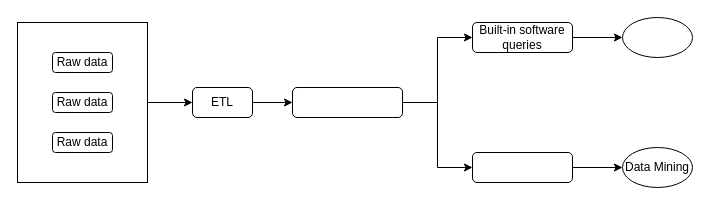
This 710x205 diagram has some shape labels left out. The centre of each missing label's shape, as x and y in pixels:
"Manual queries" belongs at [522,167].
"PostgresSQL Server" belongs at [347,102].
"POWER BI" belongs at [657,37].
